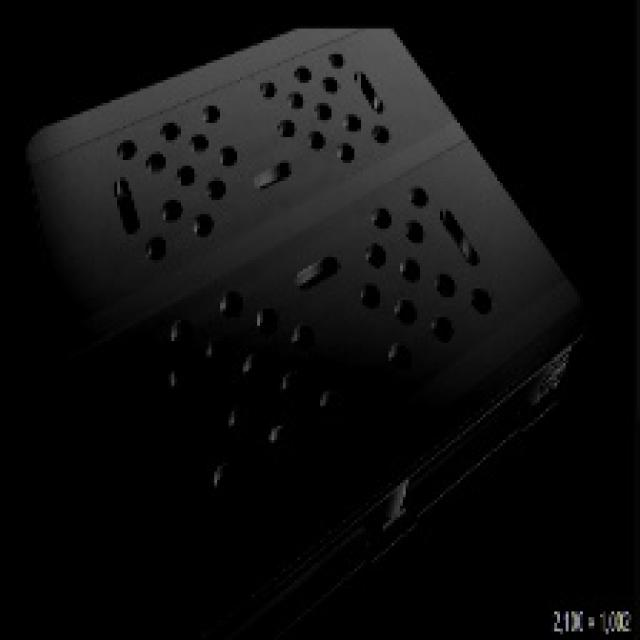igps: (14, 22, 609, 640)
